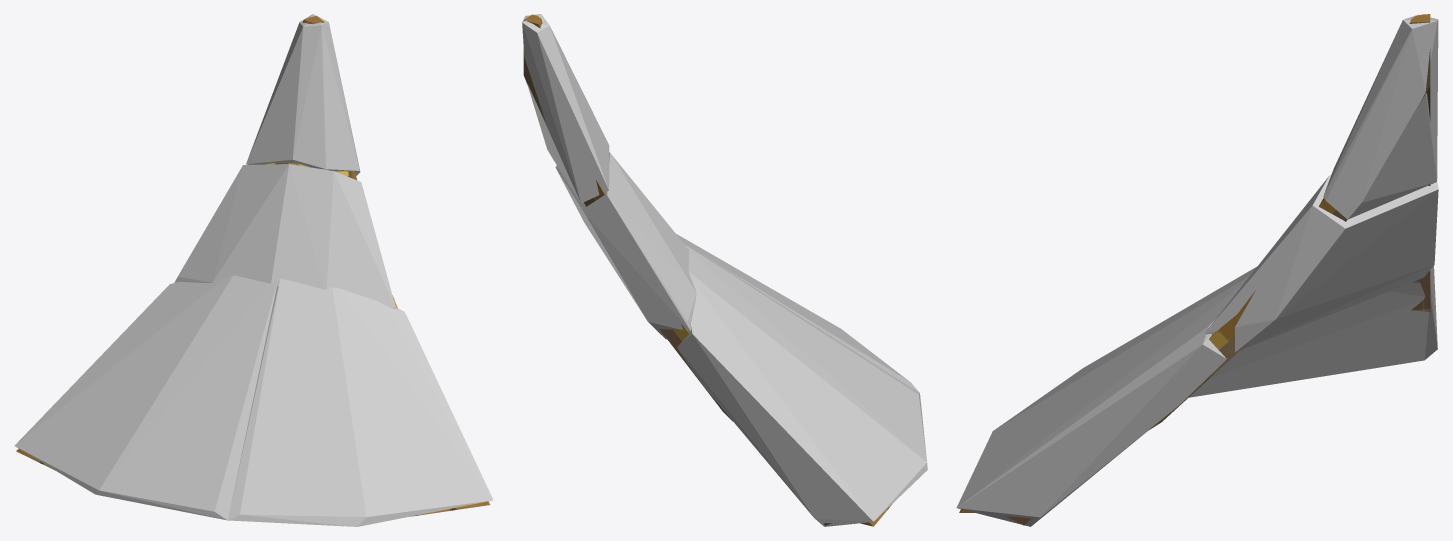
Rendered from SM_Bld_Roof_Concave_Corner_Round_01.fbx.
3 renders of one model, left to right at view 1: azimuth 30°, elevation 25°; view 2: azimuth 150°, elevation 25°; view 3: azimuth 270°, elevation 25°, orthographic. The views are drawn at different scales.
Parts seen in each view (by area): view 1: SM_Bld_Roof_Concave_Corner_Round_01_ConvexHulls, SM_Bld_Roof_Concave_Corner_Round_01; view 2: SM_Bld_Roof_Concave_Corner_Round_01_ConvexHulls, SM_Bld_Roof_Concave_Corner_Round_01; view 3: SM_Bld_Roof_Concave_Corner_Round_01_ConvexHulls, SM_Bld_Roof_Concave_Corner_Round_01.
Boxes of the visible parts, <box> form: SM_Bld_Roof_Concave_Corner_Round_01_ConvexHulls: <box>14,14,493,526</box>; SM_Bld_Roof_Concave_Corner_Round_01: <box>16,15,490,516</box>; SM_Bld_Roof_Concave_Corner_Round_01_ConvexHulls: <box>522,14,927,526</box>; SM_Bld_Roof_Concave_Corner_Round_01: <box>523,14,891,526</box>; SM_Bld_Roof_Concave_Corner_Round_01_ConvexHulls: <box>956,14,1438,526</box>; SM_Bld_Roof_Concave_Corner_Round_01: <box>959,14,1430,525</box>.
Bounding box in the file's own units: 267 × 267 × 312.
4 materials, 3 textured.
